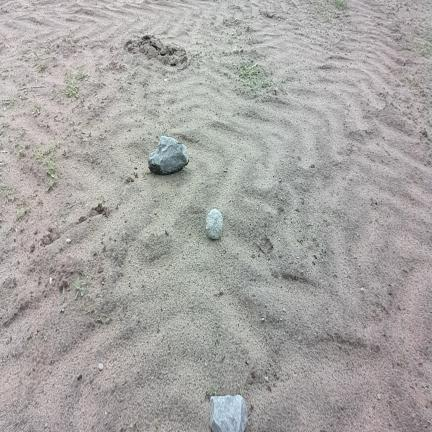Rock: (149, 136, 188, 175), (210, 395, 247, 431), (205, 208, 223, 240)
